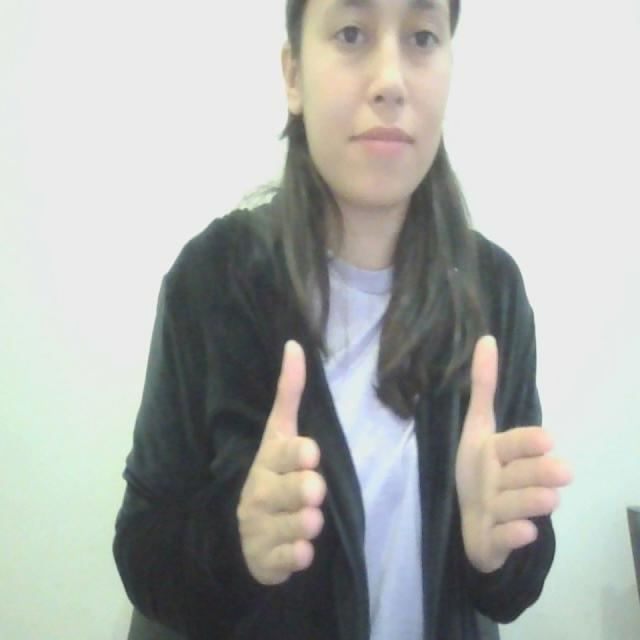Nasil: (230, 305, 583, 603)
